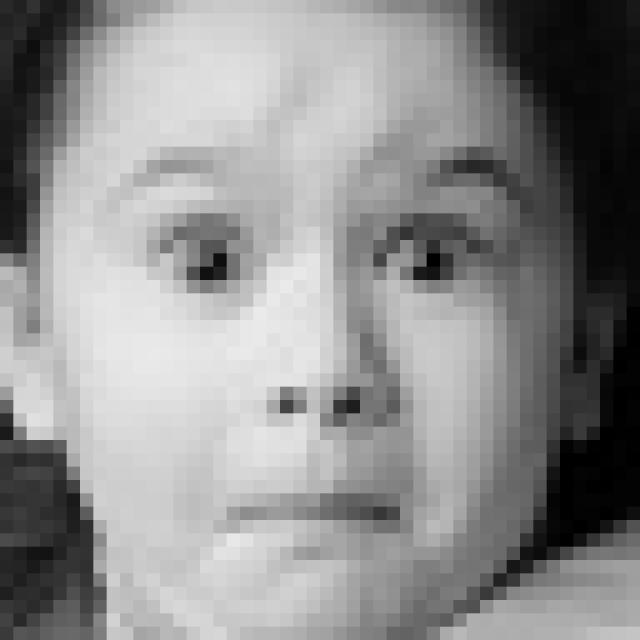surprise: (93, 133, 545, 576)
